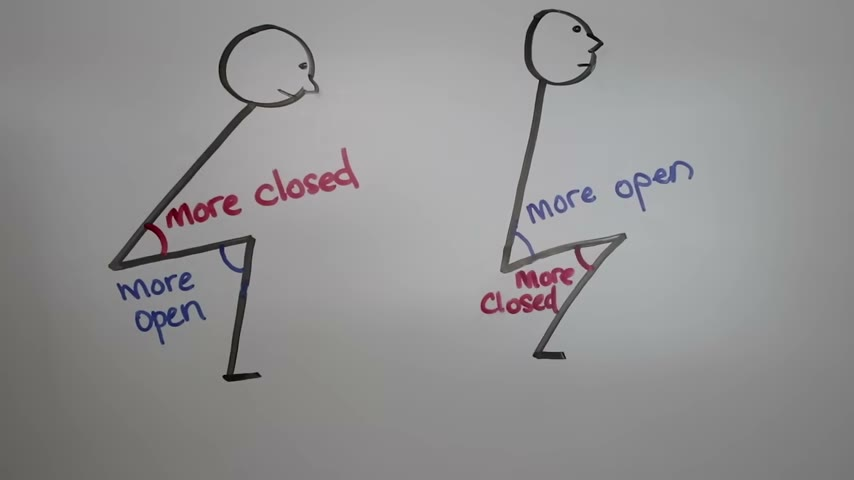barbell_plate_side: (577, 5, 603, 94)
